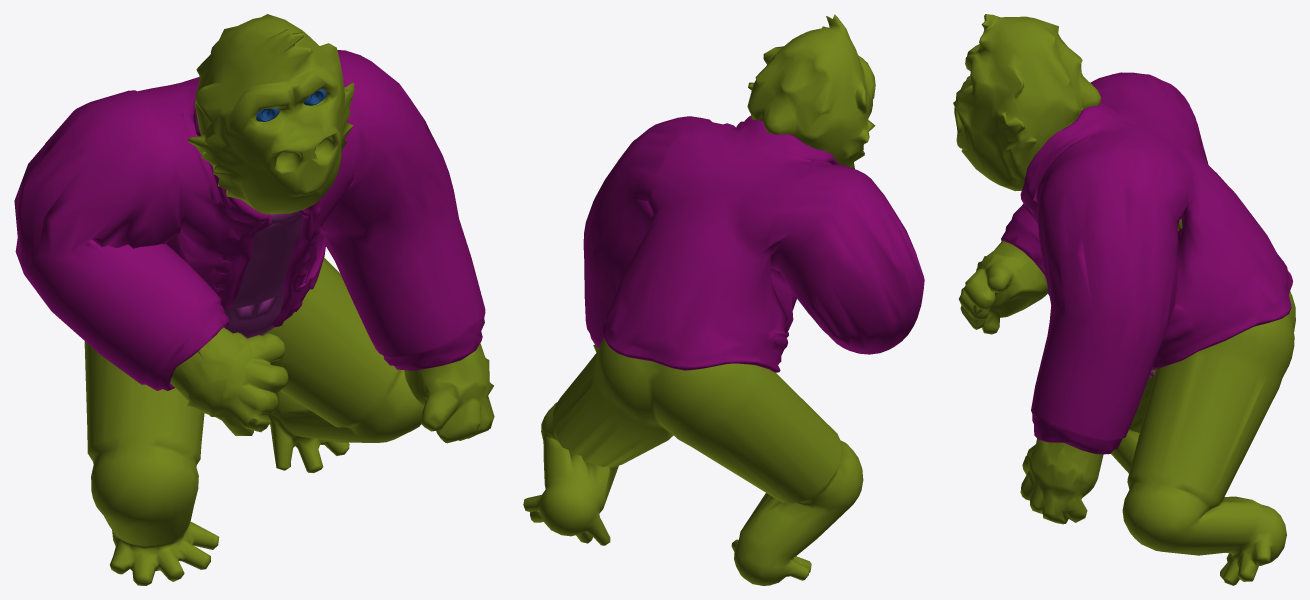
Rendered from kong_000004.obj.
3 views of the same model, side by side, from view 1: azimuth 30°, elevation 25°; view 2: azimuth 150°, elevation 25°; view 3: azimuth 270°, elevation 25° (orthographic). The views are drawn at different scales.
Parts seen in each view (by area): view 1: Jacket, Body, Shirt; view 2: Jacket, Body; view 3: Jacket, Body.
Part boxes in pixels (x1,y1,x2,y2): Jacket: (14, 50, 485, 390); Body: (84, 14, 494, 585); Shirt: (224, 207, 308, 338); Jacket: (583, 115, 924, 372); Body: (523, 14, 875, 585); Jacket: (1001, 72, 1292, 454); Body: (953, 14, 1295, 585).
Size of the model in its own units: 5.91 by 7.98 by 4.77.
